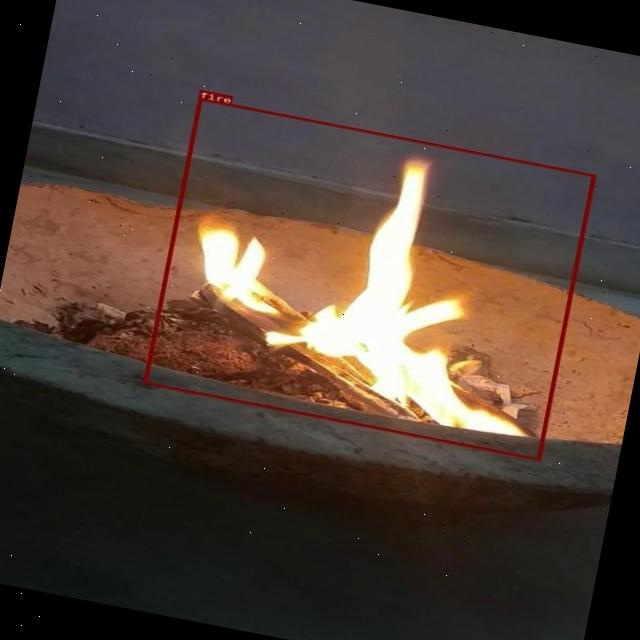fire: (142, 98, 594, 460)
